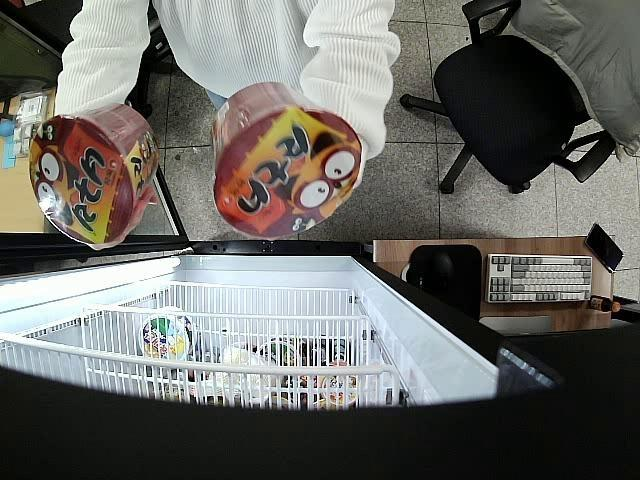05_nuguri_L: (29, 102, 158, 246)
